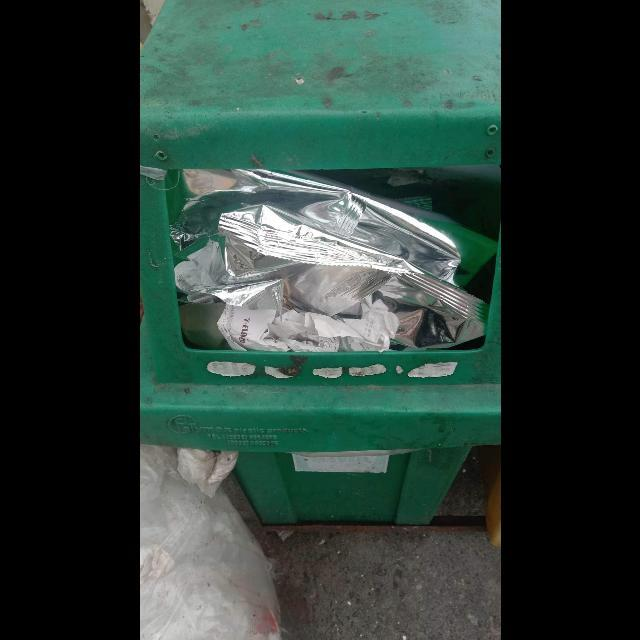food_wrapper: (170, 169, 485, 350)
paper: (217, 299, 401, 355)
